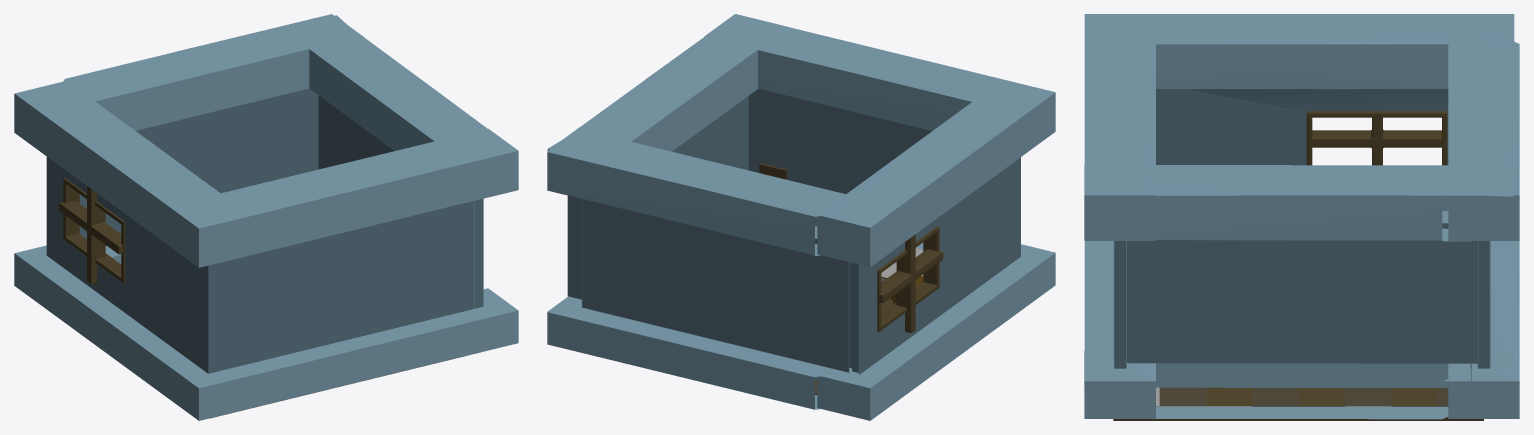
Rendered from room.fbx.
3 views of the same model, side by side, from view 1: azimuth 30°, elevation 25°; view 2: azimuth 150°, elevation 25°; view 3: azimuth 270°, elevation 25° (orthographic). The views are drawn at different scales.
Visible parts, largest first — view 1: Wall, Wall2, Wall1, the___in_the_window, Frame; view 2: Wall, Wall2, Wall1, the___in_the_window, Frame; view 3: Wall1, Wall, Wall2, the___in_the_window, Frame, FloorBoard1, FloorBoard2, FloorBoard3, FloorBoard4, FloorBoard5, FloorBoard6, Base.
Boxes of the visible parts, x1,y1,x2,y2 form: Wall: [14, 81, 518, 420]; Wall2: [24, 14, 361, 294]; Wall1: [282, 15, 518, 355]; the___in_the_window: [59, 186, 122, 284]; Frame: [63, 178, 125, 283]; Wall: [704, 14, 1055, 420]; Wall2: [547, 129, 898, 409]; Wall1: [547, 14, 788, 322]; the___in_the_window: [879, 234, 943, 332]; Frame: [877, 226, 939, 331]; Wall1: [1084, 165, 1513, 419]; Wall: [1084, 14, 1514, 418]; Wall2: [1448, 14, 1519, 418]; the___in_the_window: [1312, 117, 1441, 165]; Frame: [1306, 111, 1447, 165]; FloorBoard1: [1159, 387, 1205, 406]; FloorBoard2: [1206, 387, 1252, 406]; FloorBoard3: [1252, 388, 1298, 406]; FloorBoard4: [1298, 388, 1344, 406]; FloorBoard5: [1345, 388, 1391, 406]; FloorBoard6: [1391, 388, 1437, 406]; Base: [1113, 417, 1483, 420].
Size of the model in its own units: 27.99 by 16.99 by 28.19.
